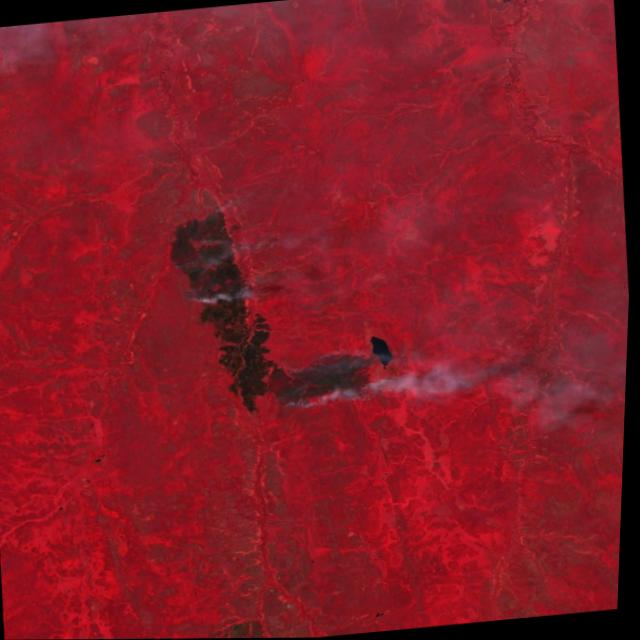fire: (165, 200, 258, 309), (273, 347, 386, 415)
